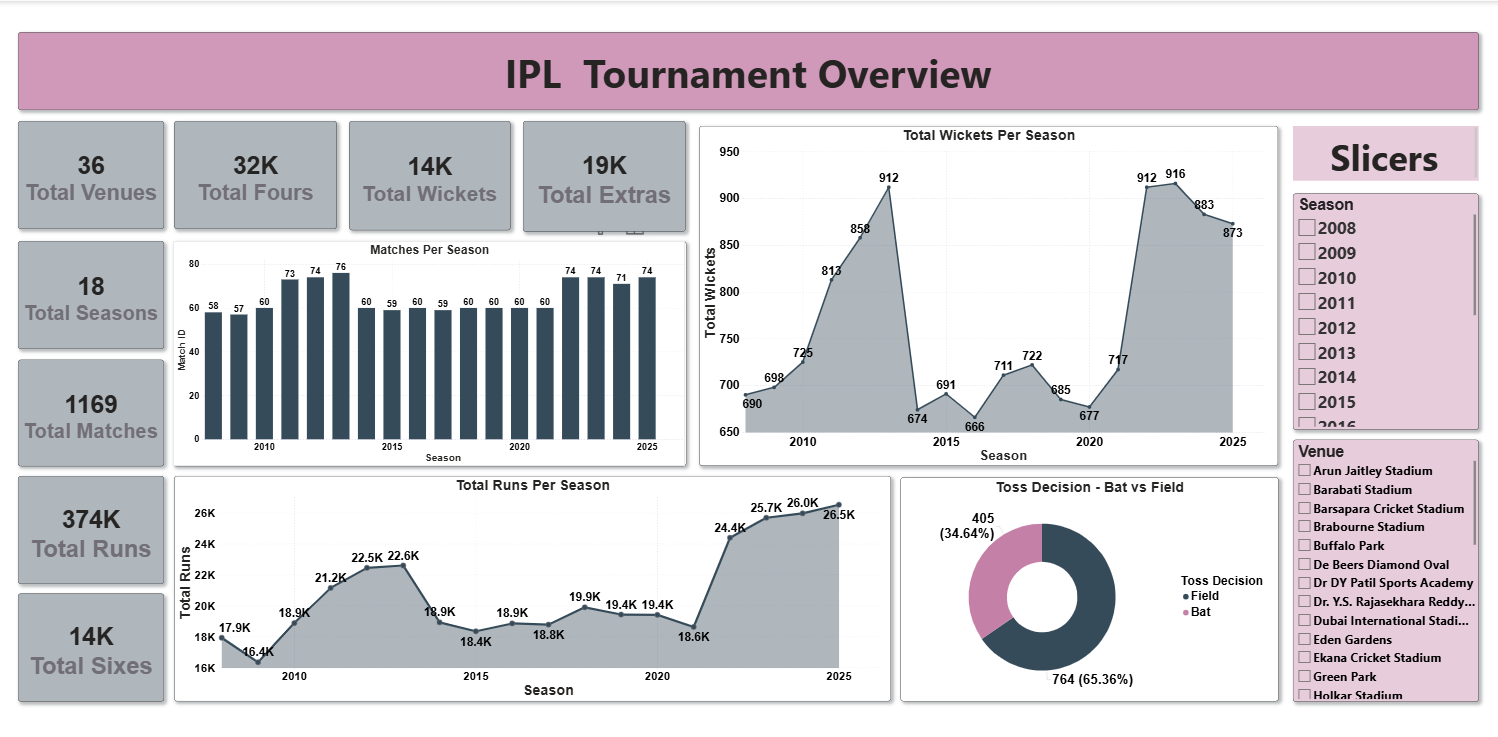

Layout of this report page (visuals, bound fields, positions):
{"tool":"powerbi","page":{"name":"Match Analysis","canvas":[4900,2400],"ordinal":0},"visuals":[{"type":"textbox","box":[66.8,102.4,4762.9,253.7],"z":0},{"type":"card","fields":{"Values":["cleaned_matches.Total Matches"]},"box":[68.1,1167.3,476.9,349.7],"z":1000},{"type":"card","fields":{"Values":["cleaned_deliveries.Total Runs"]},"box":[66.8,1549.1,476.3,351.7],"z":2000},{"type":"card","fields":{"Values":["cleaned_deliveries.Total Wickets"]},"box":[1144,391.7,525.3,356.1],"z":3000},{"type":"slicer","fields":{"Values":["cleaned_matches.venue"]},"box":[4224.3,1428.9,605.4,854.7],"z":4000},{"type":"card","fields":{"Values":["cleaned_deliveries.Total Sixes"]},"box":[66.8,1931.9,476.3,351.7],"z":5000},{"type":"columnChart","title":"Matches Per Season","fields":{"Category":["cleaned_matches.season"],"Y":["CountNonNull(cleaned_matches.match_id)"]},"box":[569.8,783.4,1673.7,734.5],"z":6000},{"type":"card","fields":{"Values":["cleaned_deliveries.Total Fours"]},"box":[574.2,391.7,529.7,351.7],"z":7000},{"type":"slicer","fields":{"Values":["cleaned_matches.season"]},"box":[4224.2,617.7,604.1,781.2],"z":8000},{"type":"textbox","box":[4224.2,390.6,604.1,195.3],"z":9000},{"type":"lineChart","title":"Total Runs Per Season","fields":{"Category":["cleaned_matches.season"],"Y":["cleaned_deliveries.Total Runs"]},"box":[574.2,1549.1,2336.9,734.5],"z":10000},{"type":"donutChart","title":"Toss Decision - Bat vs Field","fields":{"Category":["cleaned_matches.toss_decision"],"Y":["CountNonNull(cleaned_matches.toss_decision)"]},"box":[2942.3,1553.5,1233,730],"z":11000},{"type":"card","fields":{"Values":["Count(cleaned_matches.season)"]},"box":[66.8,783.4,476.3,351.7],"z":12000},{"type":"card","title":"Total Venues","fields":{"Values":["Count(cleaned_matches.venue)"]},"box":[66.8,391.7,476.3,351.7],"z":13000},{"type":"areaChart","title":"Total Wickets Per Season","fields":{"Category":["cleaned_matches.season"],"Y":["cleaned_deliveries.Total Wickets"]},"box":[2289.2,390.6,1885,1126.4],"z":14000},{"type":"card","fields":{"Values":["cleaned_deliveries.Total Extras"]},"box":[1713.8,391.7,529.7,360.6],"z":15000}]}

Visuals, with their boxes in screenshot pixels (x1, y1, x2, y2), scaled from the page's 4900x2400 canvas onto the 1498x737 screenshot:
textbox: {"x1": 20, "y1": 31, "x2": 1477, "y2": 109}
card - cleaned_matches.Total Matches: {"x1": 21, "y1": 358, "x2": 167, "y2": 466}
card - cleaned_deliveries.Total Runs: {"x1": 20, "y1": 476, "x2": 166, "y2": 584}
card - cleaned_deliveries.Total Wickets: {"x1": 350, "y1": 120, "x2": 510, "y2": 230}
slicer - cleaned_matches.venue: {"x1": 1291, "y1": 439, "x2": 1477, "y2": 701}
card - cleaned_deliveries.Total Sixes: {"x1": 20, "y1": 593, "x2": 166, "y2": 701}
"Matches Per Season" columnChart: {"x1": 174, "y1": 241, "x2": 686, "y2": 466}
card - cleaned_deliveries.Total Fours: {"x1": 176, "y1": 120, "x2": 337, "y2": 228}
slicer - cleaned_matches.season: {"x1": 1291, "y1": 190, "x2": 1476, "y2": 430}
textbox: {"x1": 1291, "y1": 120, "x2": 1476, "y2": 180}
"Total Runs Per Season" lineChart: {"x1": 176, "y1": 476, "x2": 890, "y2": 701}
"Toss Decision - Bat vs Field" donutChart: {"x1": 900, "y1": 477, "x2": 1276, "y2": 701}
card - Count(cleaned_matches.season): {"x1": 20, "y1": 241, "x2": 166, "y2": 349}
"Total Venues" card: {"x1": 20, "y1": 120, "x2": 166, "y2": 228}
"Total Wickets Per Season" areaChart: {"x1": 700, "y1": 120, "x2": 1276, "y2": 466}
card - cleaned_deliveries.Total Extras: {"x1": 524, "y1": 120, "x2": 686, "y2": 231}
